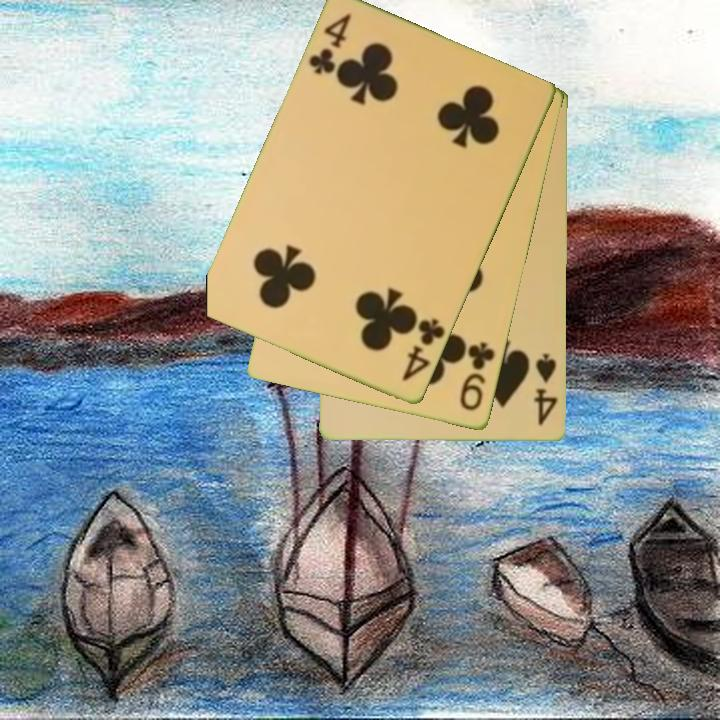4c: (398, 315, 448, 385), (305, 10, 354, 78)
4s: (531, 351, 561, 429)
9c: (456, 338, 498, 414)
